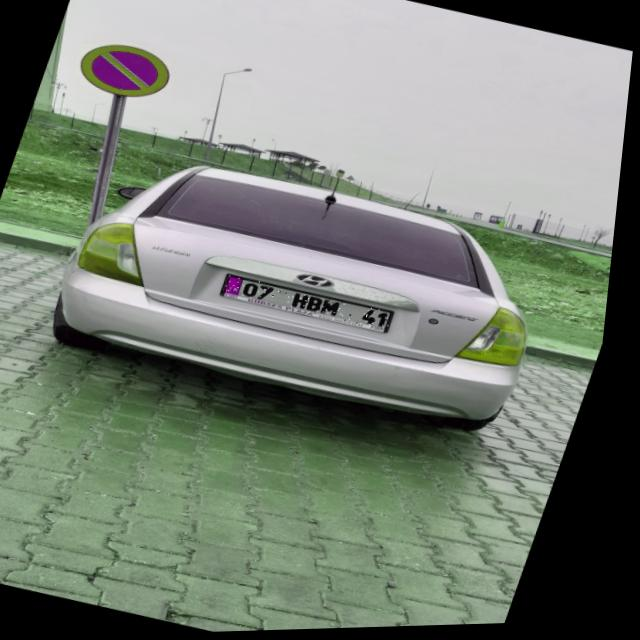license_plate: (223, 271, 403, 336)
